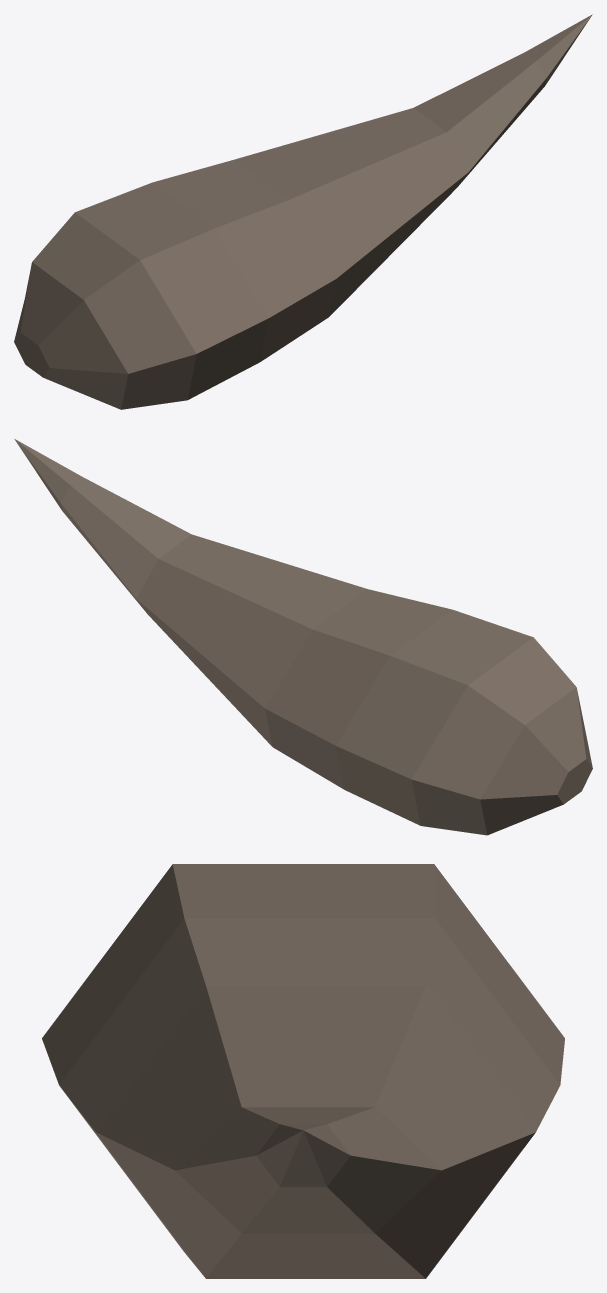
The model's file is PineTree_Seed.fbx.
3 views of the same model, one above another, from view 1: azimuth 30°, elevation 25°; view 2: azimuth 150°, elevation 25°; view 3: azimuth 270°, elevation 25° (orthographic). The views are drawn at different scales.
Visible parts, largest first — view 1: Sphere; view 2: Sphere; view 3: Sphere.
Part boxes in pixels (<box>): Sphere: <box>14,14,592,409</box>; Sphere: <box>14,439,592,835</box>; Sphere: <box>42,864,564,1278</box>.
Bounding box in the file's own units: 523 × 227 × 211.
